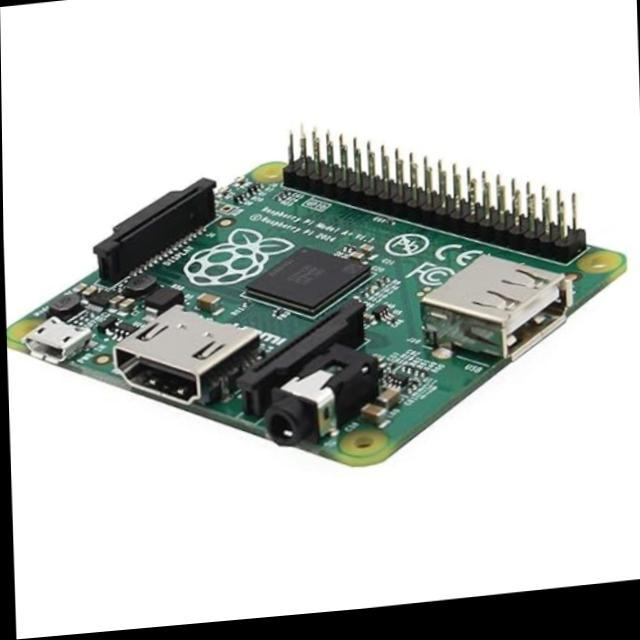Raspberry-Pi-1-A-: (11, 139, 625, 465)
